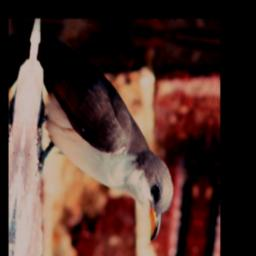Cuckoo: (15, 24, 191, 244)
